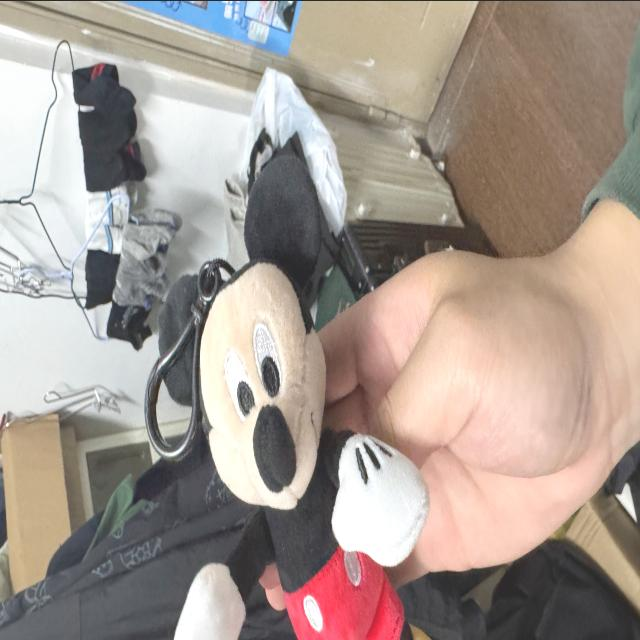mickey: (146, 155, 428, 639)
